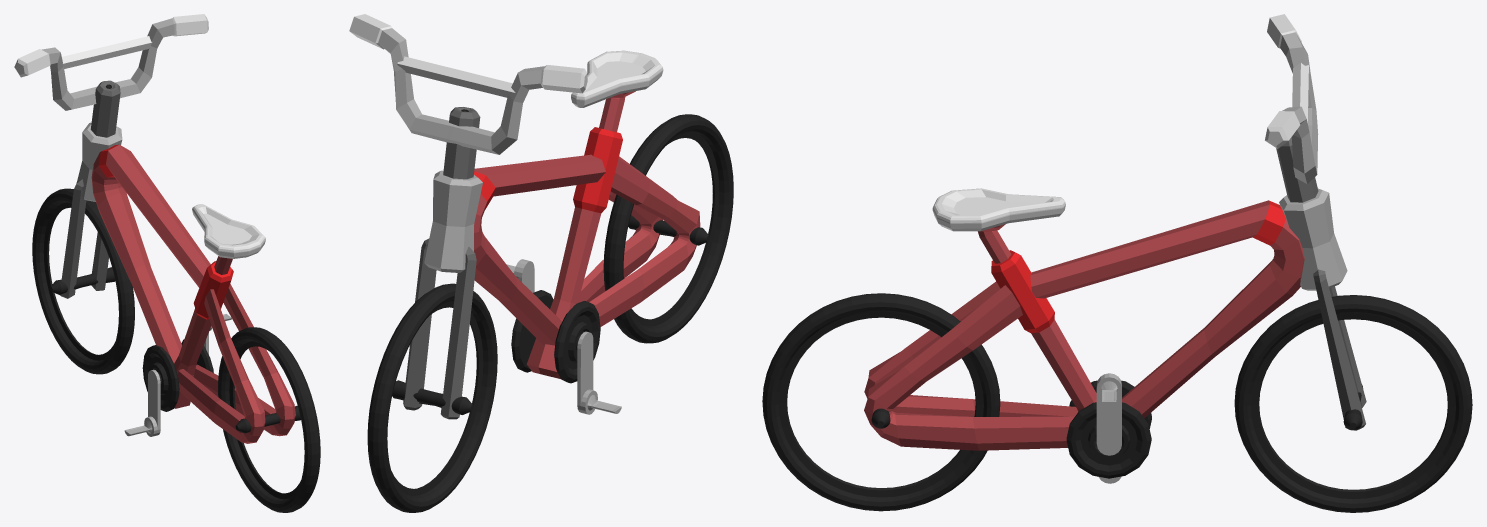
File: NewBike.fbx
3 views of the same model, side by side, from view 1: azimuth 30°, elevation 25°; view 2: azimuth 150°, elevation 25°; view 3: azimuth 270°, elevation 25° (orthographic). The views are drawn at different scales.
Visible parts, largest first — view 1: Frame.028, Handlebar.028, FrontWheel, BackWheel.029, Circle.161, Cylinder.169, Circle.162; view 2: Frame.028, Handlebar.028, FrontWheel, BackWheel.029, Cylinder.169, Circle.161, Circle.162, Circle.160, Circle.163; view 3: Frame.028, FrontWheel, BackWheel.029, Handlebar.028, Circle.160, Cylinder.169, Circle.163.
Boxes of the visible parts, x1,y1,x2,y2 form: Frame.028: (91,144,295,443); Handlebar.028: (14,14,208,298); FrontWheel: (32,188,134,374); BackWheel.029: (218,327,320,512); Circle.161: (142,345,179,411); Cylinder.169: (76,122,122,201); Circle.162: (124,369,160,436); Frame.028: (474,50,700,378); Handlebar.028: (349,14,587,419); FrontWheel: (367,283,497,512); BackWheel.029: (603,114,733,343); Cylinder.169: (424,170,482,272); Circle.161: (554,301,600,383); Circle.162: (577,331,621,414); Circle.160: (511,290,553,372); Circle.163: (506,259,534,292); Frame.028: (864,188,1304,450); FrontWheel: (1234,295,1472,512); BackWheel.029: (762,293,1000,511); Handlebar.028: (1265,14,1366,430); Circle.160: (1066,402,1151,478); Cylinder.169: (1279,188,1347,290); Circle.163: (1096,373,1121,455).
Size of the model in its own units: 485 by 708 by 274.
